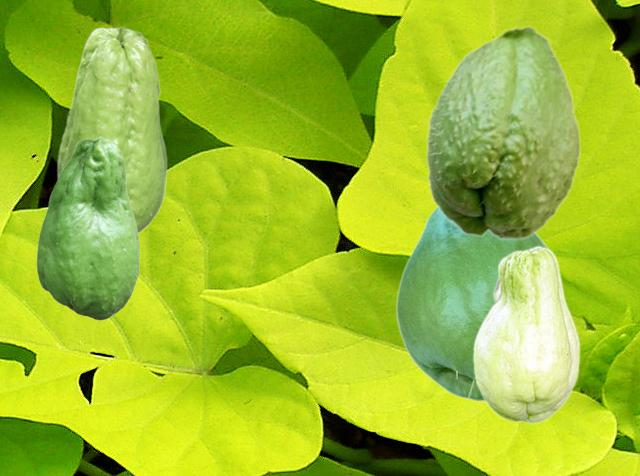sayote: (425, 24, 581, 240), (395, 208, 548, 402), (56, 26, 167, 234), (472, 245, 579, 423), (36, 136, 139, 319)
